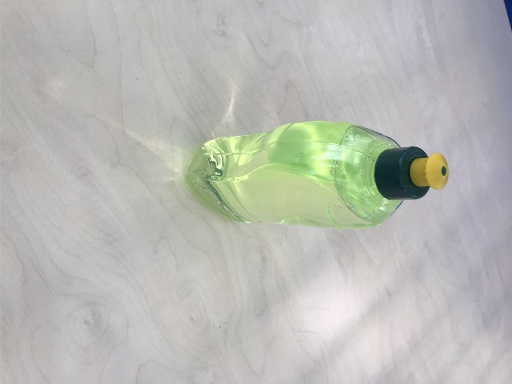Sapone: (186, 119, 449, 229)
